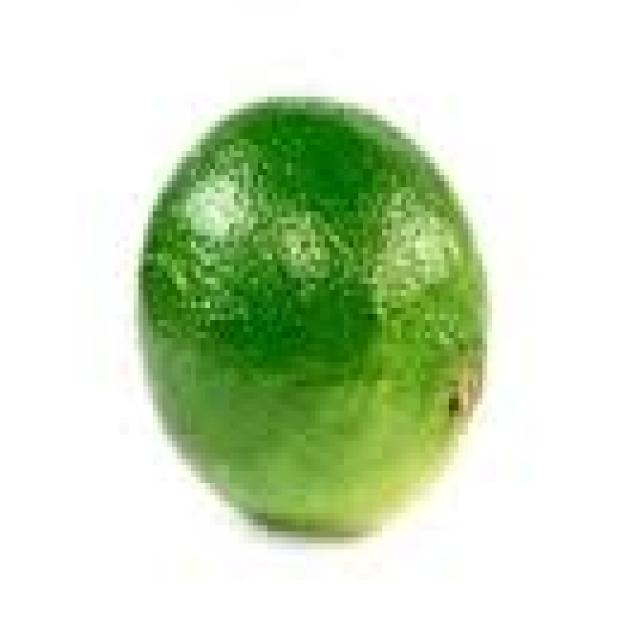lemon: (124, 79, 487, 544)
